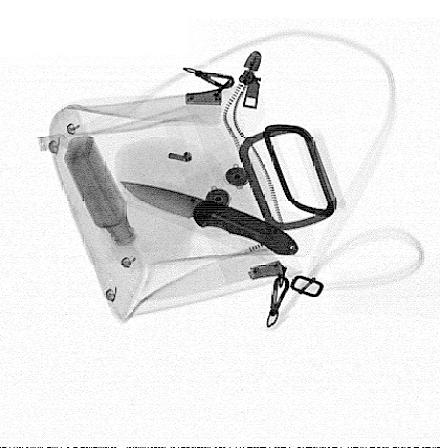Knife: (116, 181, 300, 256)
